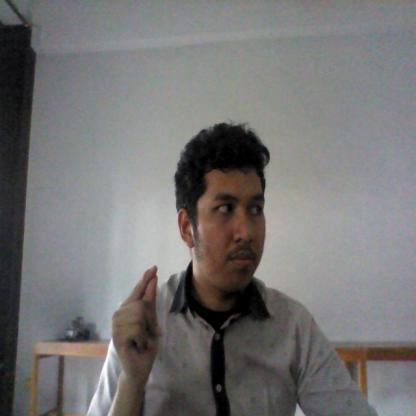R: (102, 258, 172, 384)
